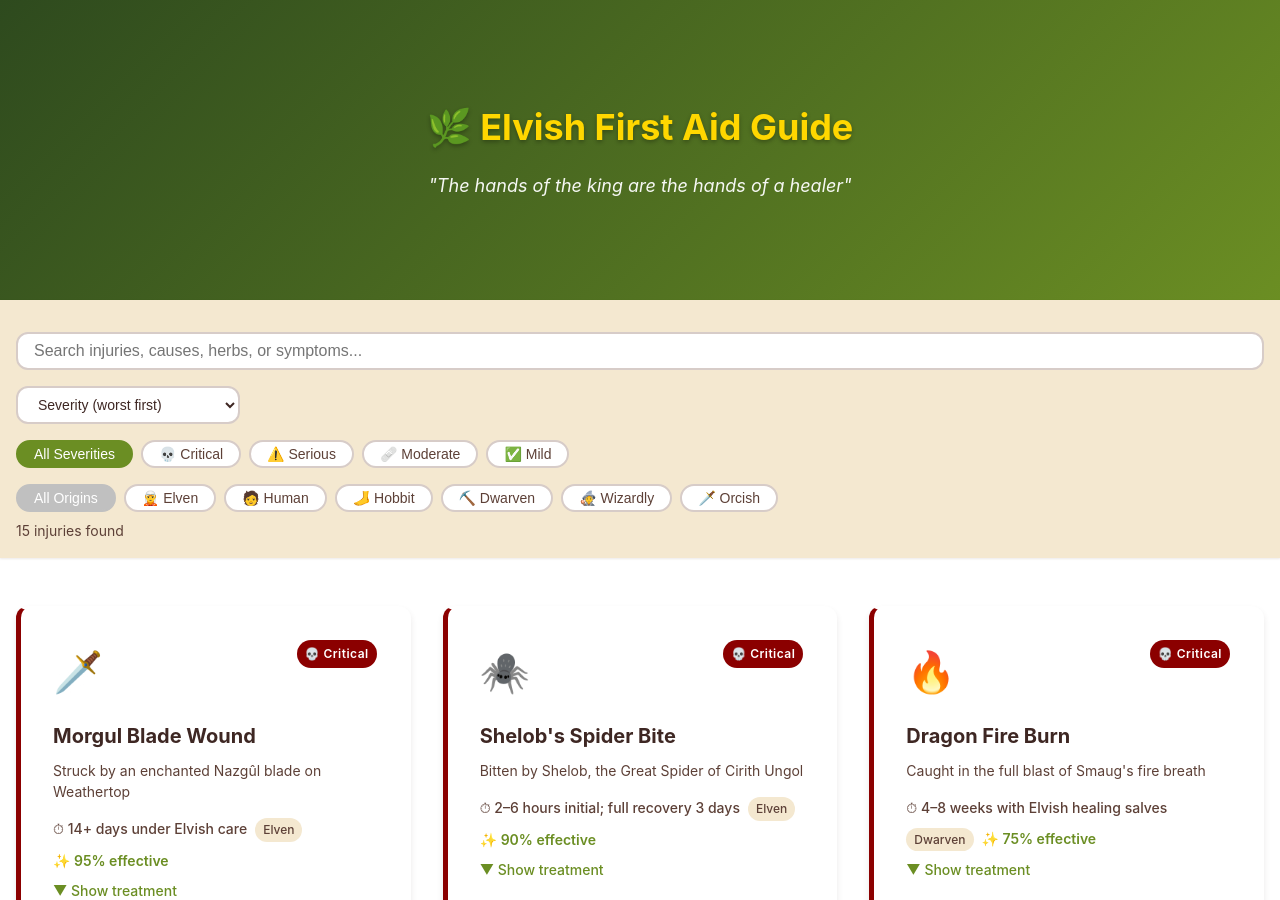
Test: InjuryDatabase › shows singular "injury" when exactly one result
The width and height of the screenshot is (1280, 900).
Type "lembas overconsumption" into the field with class "search-input".
click(640, 351); type("lembas overconsumption")  # box [16,332,1264,370]
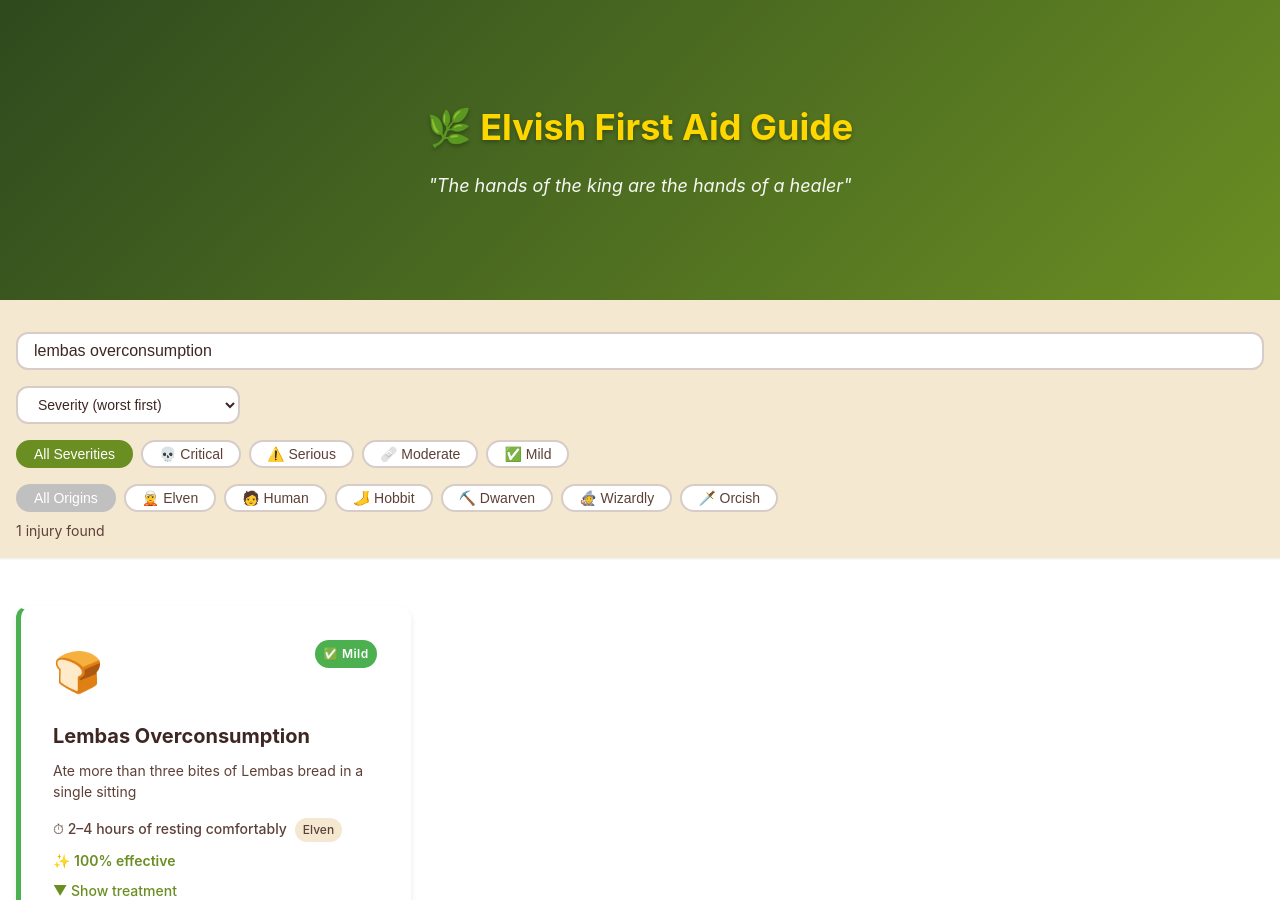
expect the text with class "results-count" reads "1 injury found": met, box [16,522,104,539]
